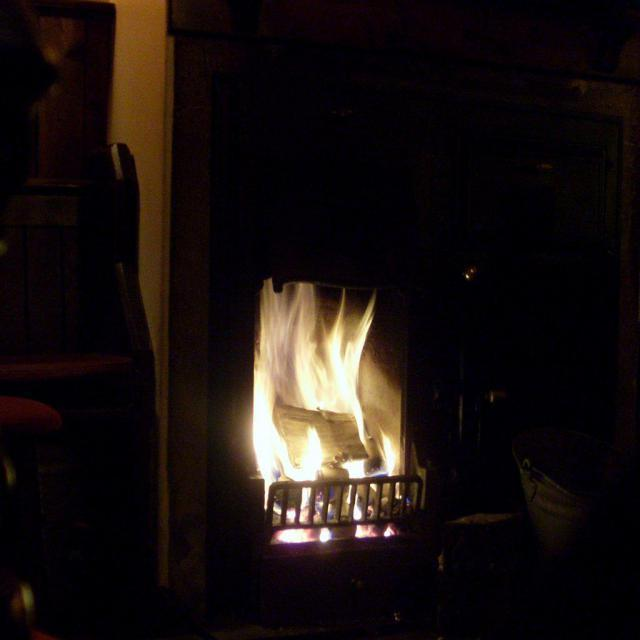Fire: (254, 276, 404, 536)
